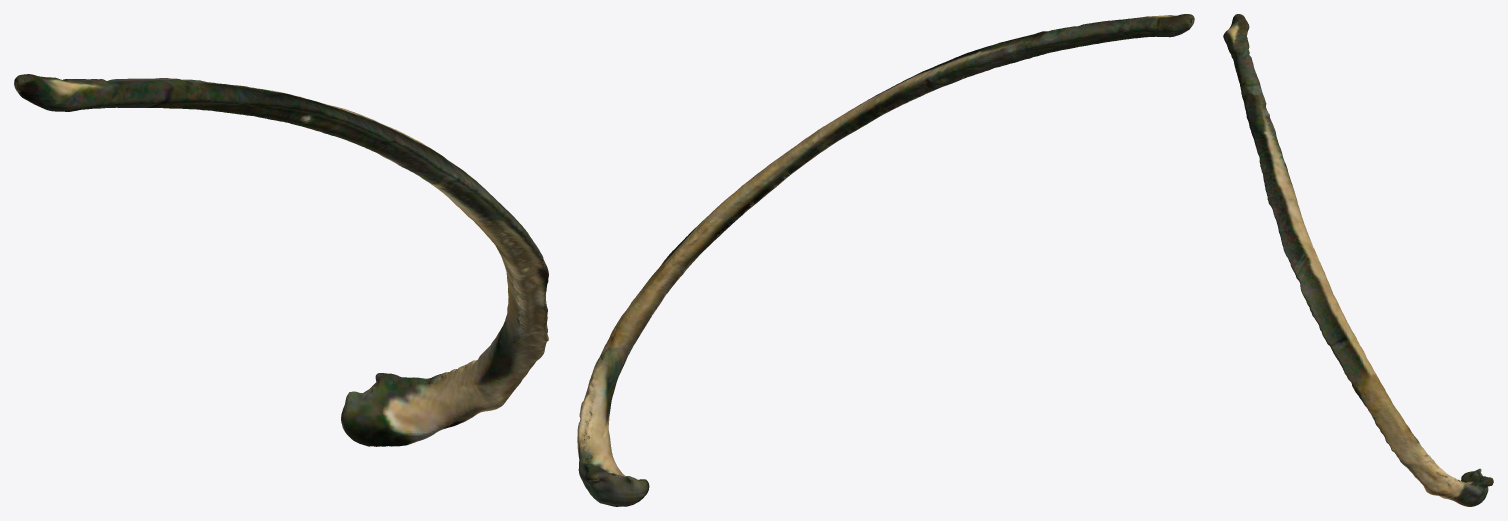
File: 3r_ribs.glb
The picture shows the model from 3 angles, left to right: view 1: azimuth 30°, elevation 25°; view 2: azimuth 150°, elevation 25°; view 3: azimuth 270°, elevation 25°; orthographic projection. The views are drawn at different scales.
Visible parts, largest first — view 1: Node; view 2: Node; view 3: Node.
Part boxes in pixels (x1,y1,x2,y2): Node: (14,74,548,446); Node: (577,14,1194,506); Node: (1223,14,1493,506).
Bounding box in the file's own units: 68.09 × 63.55 × 45.93.
1 material, 1 textured.
